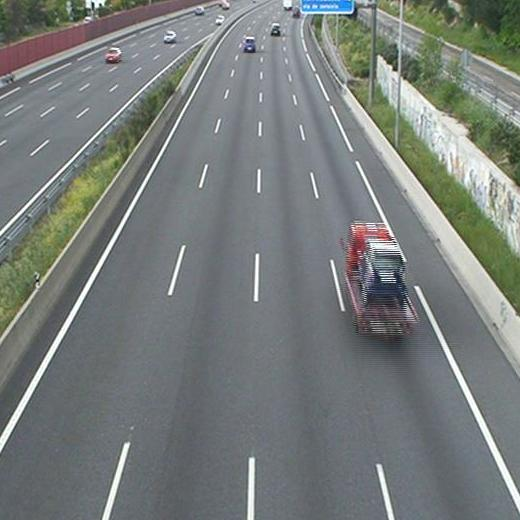car: (359, 241, 407, 305), (243, 36, 257, 52), (271, 23, 280, 36)
small-truck: (343, 223, 419, 337)
